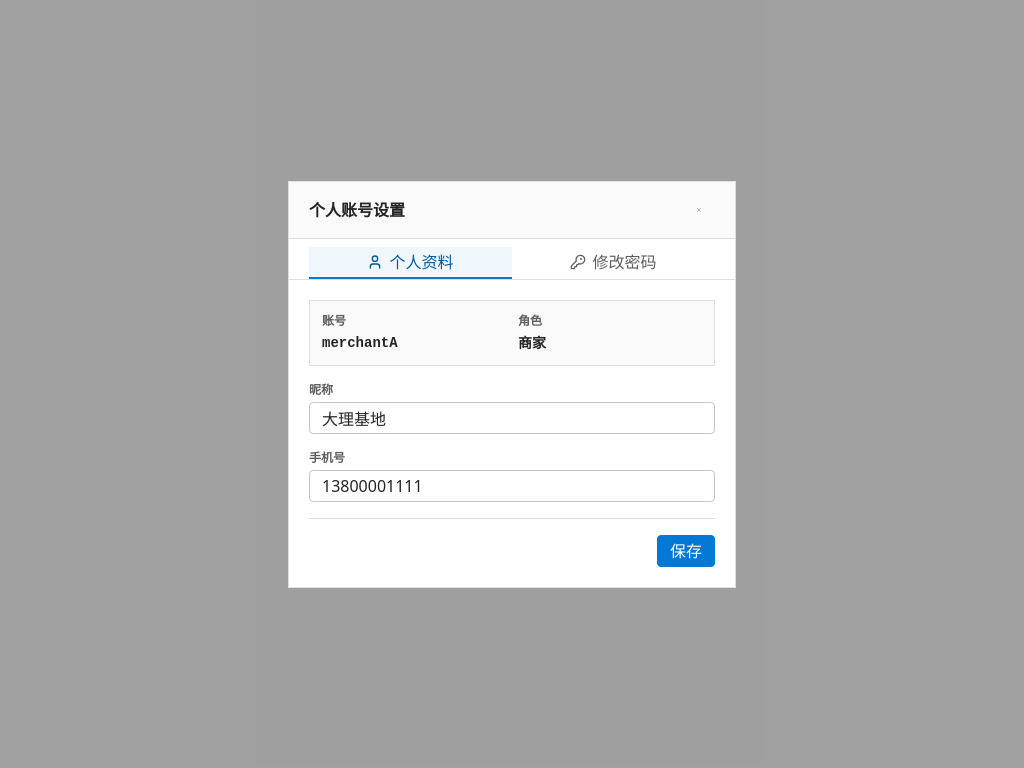
Test: ProfileSettings Fluent account modal › updates profile through the real API wrapper and auth profile cache
Replace the text in the field labelled "昵称" with "  大理基地新版  " at (512, 418), box x1=309 y1=402 x2=715 y2=434
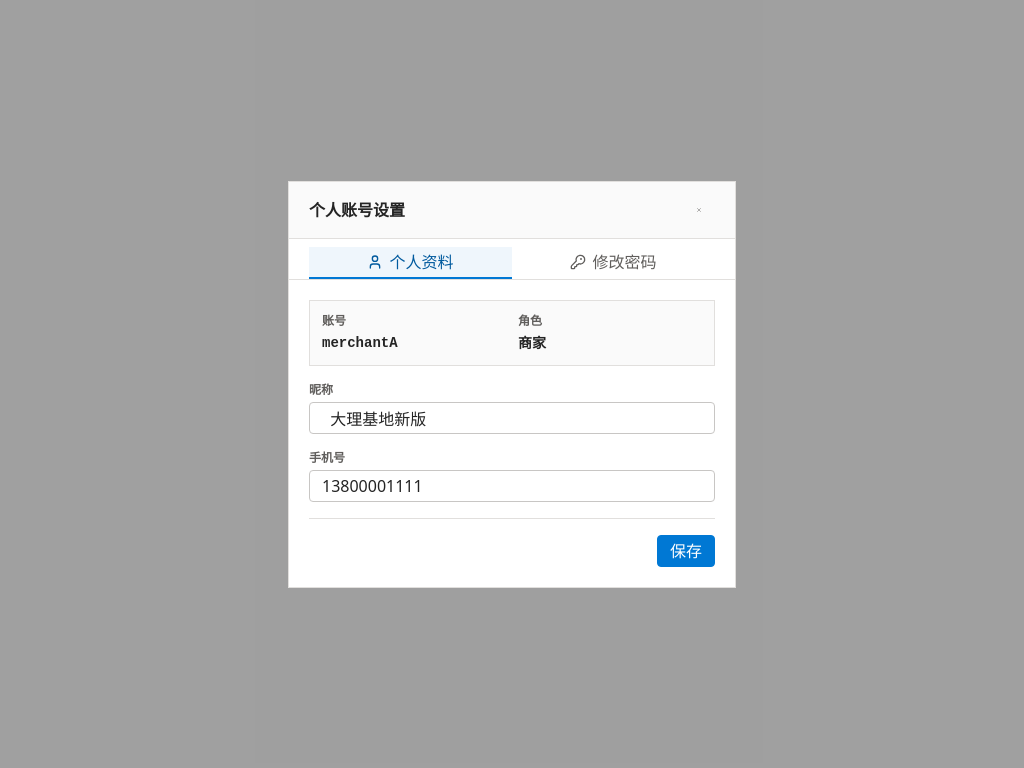
Replace the text in the field labelled "手机号" with " 13900002222 " at (512, 486), box x1=309 y1=470 x2=715 y2=502
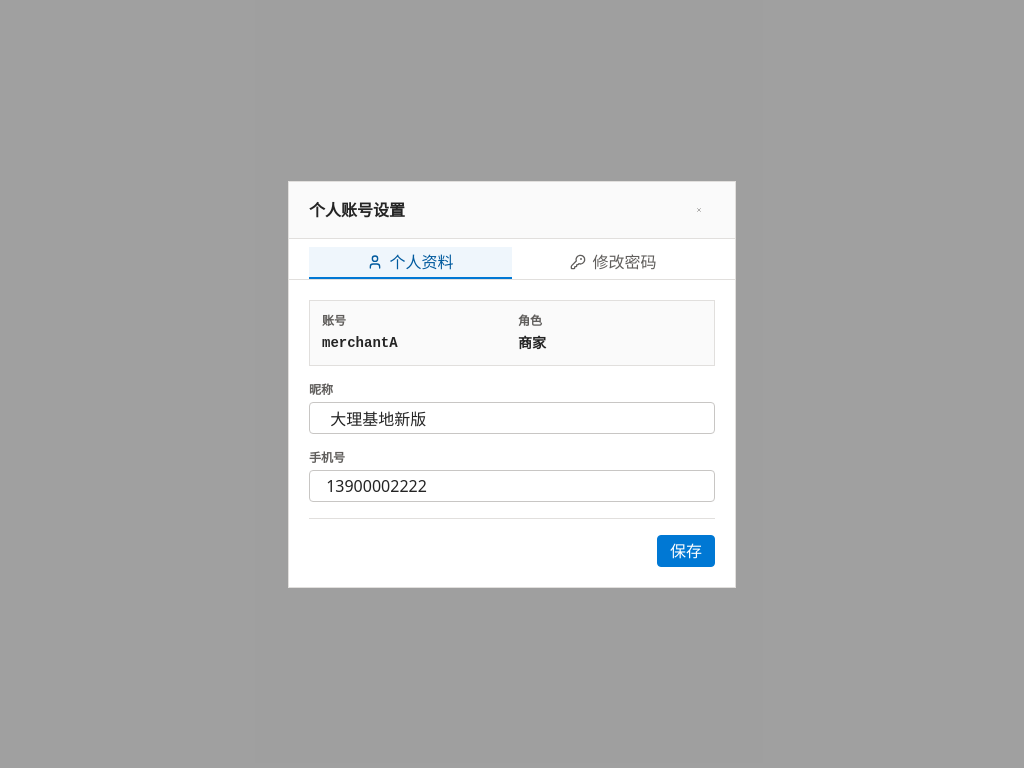
Click the button "保存" at (686, 550), box x1=657 y1=534 x2=715 y2=566
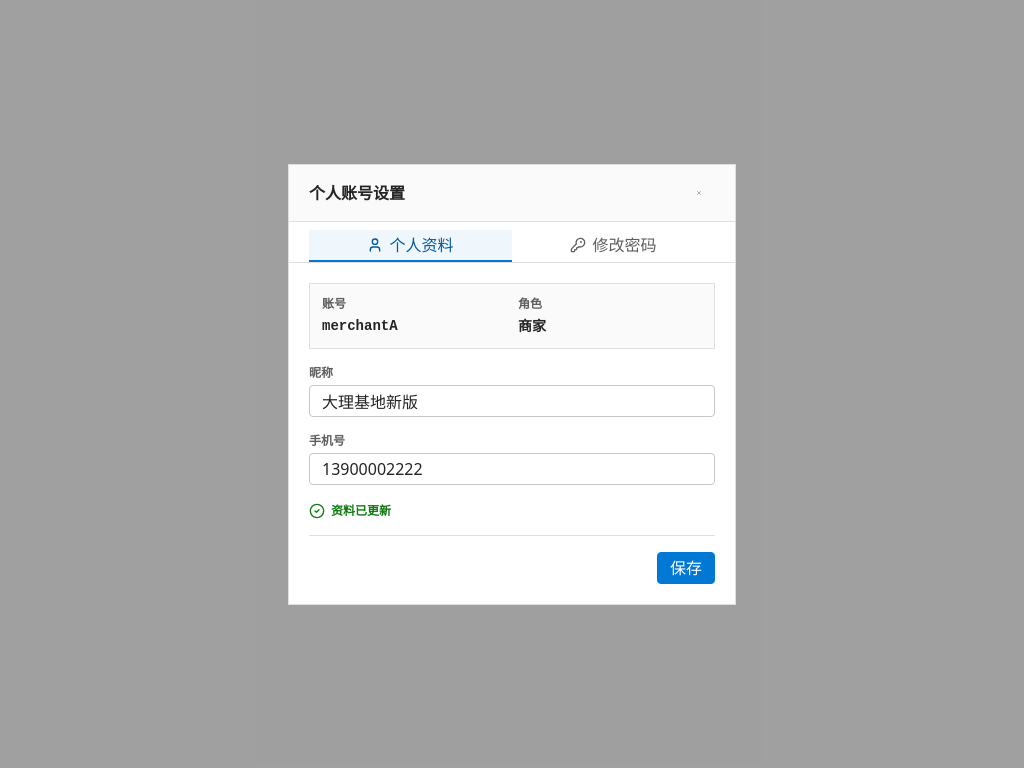
Expected: the text "资料已更新" is shown, x1=309 y1=502 x2=391 y2=518
